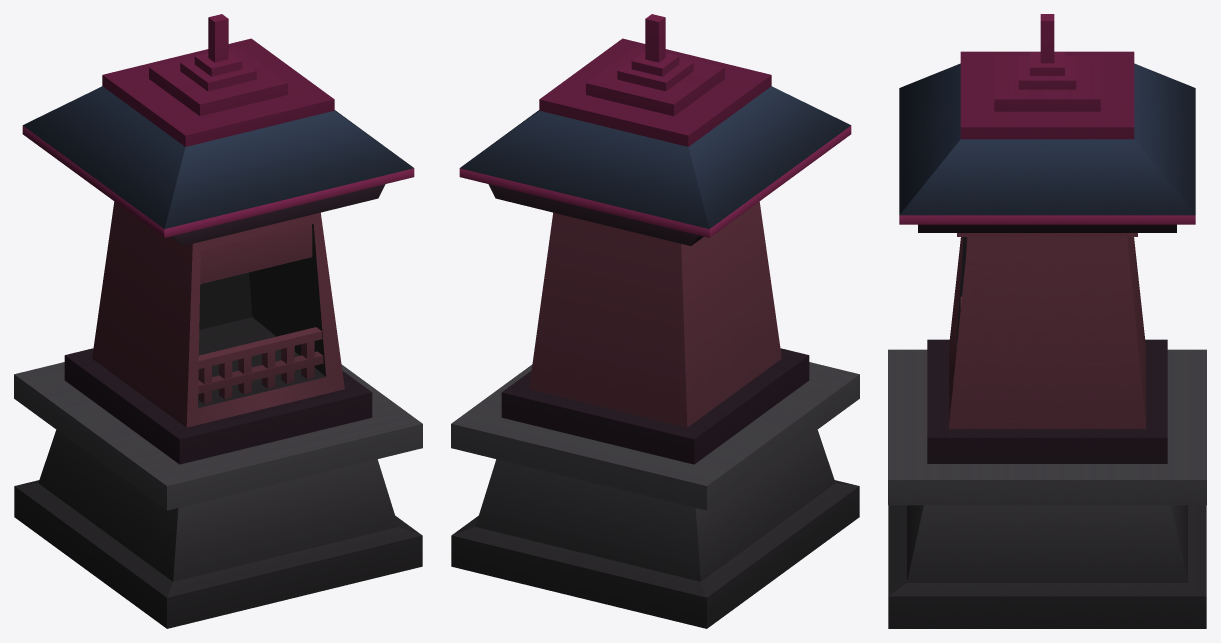
Rendered from LanternaChao.fbx.
3 renders of one model, left to right at view 1: azimuth 30°, elevation 25°; view 2: azimuth 150°, elevation 25°; view 3: azimuth 270°, elevation 25°, orthographic. The views are drawn at different scales.
Parts seen in each view (by area): view 1: pCube12; view 2: pCube12; view 3: pCube12.
Boxes of the visible parts, left/top/right/bottom form: pCube12: left=14, top=14, right=422, bottom=628; pCube12: left=451, top=14, right=859, bottom=628; pCube12: left=888, top=14, right=1206, bottom=628.
Size of the model in its own units: 1.83 by 3.59 by 1.9.
